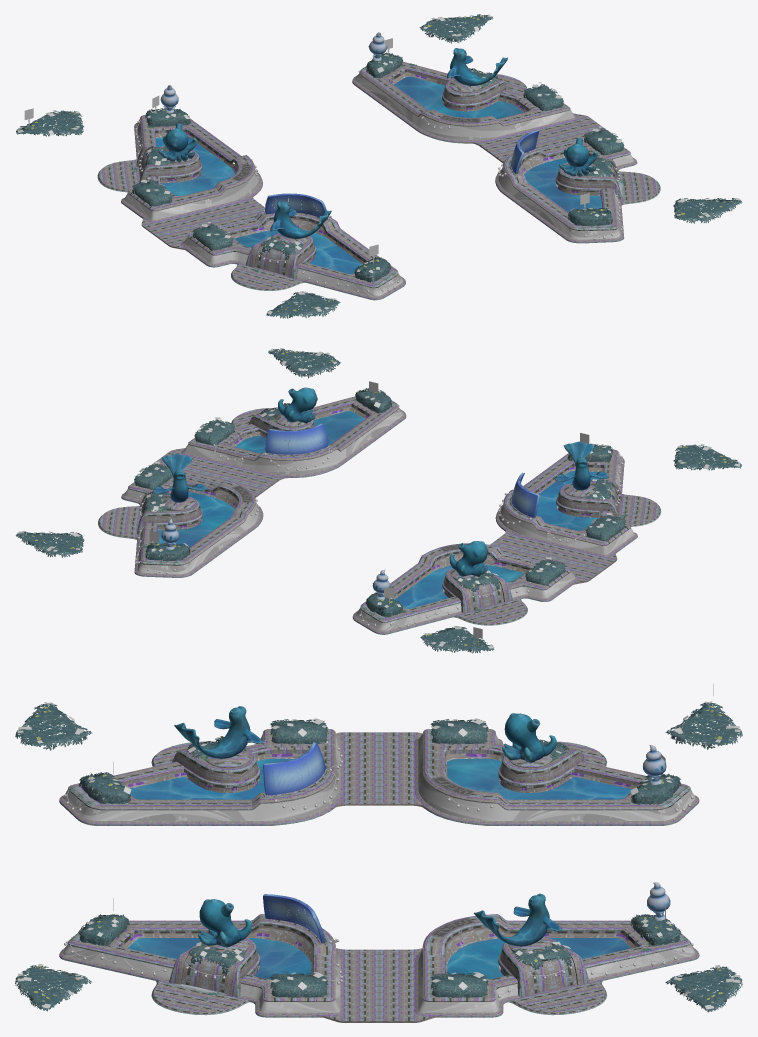
File: pref_Area_Winter_Boss_Small_beta_01_lv3.fbx
3 views of the same model, one above another, from view 1: azimuth 30°, elevation 25°; view 2: azimuth 150°, elevation 25°; view 3: azimuth 270°, elevation 25° (orthographic). The views are drawn at different scales.
Parts seen in each view (by area): view 1: sm_beach_winter_techobstacle03_a_lv3 (×2), sm_beach_winter_techobstacle03_f_lv3 (×2), pref_sm_beach_ice_lv3, pref_sm_beach_winter_techvegetation01_lv3 (×4), pref_sm_beach_winter_techvegetation05_lv3 (×2), pref_sm_beach_winter_techvegetation05_mirror_lv3 (×2), sm_beach_winter_techobstacle03_b_lv3 (×2), sm_beach_winter_techobstacle03_d_lv3 (×2), pref_sm_beach_winter_techvegetation02_lv3 (×2), pref_sm_beach_winter_techvegetation02_mirror_lv3 (×2), pref_sm_beach_winter_dewgong_lv3, pref_sm_beach_winter_dewgong_lv3 (1) (+2 smaller); view 2: sm_beach_winter_techobstacle03_a_lv3 (×2), sm_beach_winter_techobstacle03_f_lv3 (×2), pref_sm_beach_ice_lv3, pref_sm_beach_winter_techvegetation01_lv3 (×4), pref_sm_beach_winter_techvegetation05_mirror_lv3 (×2), pref_sm_beach_winter_techvegetation05_lv3 (×2), sm_beach_winter_techobstacle03_d_lv3 (×2), sm_beach_winter_techobstacle03_b_lv3 (×2), pref_sm_beach_winter_techvegetation02_lv3 (×2), pref_sm_beach_winter_dewgong_lv3, pref_sm_beach_winter_dewgong_lv3 (1), pref_sm_beach_winter_octillery_lv3 (+3 smaller); view 3: sm_beach_winter_techobstacle03_a_lv3 (×2), sm_beach_winter_techobstacle03_f_lv3 (×2), pref_sm_beach_ice_lv3, pref_sm_beach_winter_techvegetation01_lv3 (×4), sm_beach_winter_techobstacle03_b_lv3 (×2), pref_sm_beach_winter_techvegetation05_mirror_lv3 (×2), pref_sm_beach_winter_techvegetation05_lv3 (×2), sm_beach_winter_techobstacle03_d_lv3 (×2), pref_sm_beach_winter_techvegetation02_mirror_lv3 (×2), pref_sm_beach_winter_techvegetation02_lv3 (×2), pref_sm_beach_winter_dewgong_lv3 (1), pref_sm_beach_winter_dewgong_lv3 (+7 smaller).
Boxes of the visible parts, bbox=[...] form: sm_beach_winter_techobstacle03_a_lv3 (×2): bbox=[97, 61, 660, 300]; sm_beach_winter_techobstacle03_f_lv3 (×2): bbox=[124, 73, 633, 296]; pref_sm_beach_ice_lv3: bbox=[155, 76, 602, 274]; pref_sm_beach_winter_techvegetation01_lv3 (×4): bbox=[132, 84, 624, 250]; pref_sm_beach_winter_techvegetation05_lv3 (×2): bbox=[266, 14, 493, 318]; pref_sm_beach_winter_techvegetation05_mirror_lv3 (×2): bbox=[16, 110, 741, 223]; sm_beach_winter_techobstacle03_b_lv3 (×2): bbox=[155, 72, 600, 264]; sm_beach_winter_techobstacle03_d_lv3 (×2): bbox=[265, 130, 539, 220]; pref_sm_beach_winter_techvegetation02_lv3 (×2): bbox=[145, 108, 612, 226]; pref_sm_beach_winter_techvegetation02_mirror_lv3 (×2): bbox=[354, 52, 402, 282]; pref_sm_beach_winter_dewgong_lv3: bbox=[270, 201, 331, 238]; pref_sm_beach_winter_dewgong_lv3 (1): bbox=[446, 48, 507, 85]; sm_beach_winter_techobstacle03_a_lv3 (×2): bbox=[98, 396, 661, 634]; sm_beach_winter_techobstacle03_f_lv3 (×2): bbox=[124, 407, 634, 630]; pref_sm_beach_ice_lv3: bbox=[156, 411, 601, 608]; pref_sm_beach_winter_techvegetation01_lv3 (×4): bbox=[134, 419, 626, 585]; pref_sm_beach_winter_techvegetation05_mirror_lv3 (×2): bbox=[268, 348, 494, 653]; pref_sm_beach_winter_techvegetation05_lv3 (×2): bbox=[16, 444, 741, 557]; sm_beach_winter_techobstacle03_d_lv3 (×2): bbox=[265, 423, 539, 517]; sm_beach_winter_techobstacle03_b_lv3 (×2): bbox=[157, 407, 603, 599]; pref_sm_beach_winter_techvegetation02_lv3 (×2): bbox=[355, 388, 403, 617]; pref_sm_beach_winter_dewgong_lv3: bbox=[555, 441, 608, 490]; pref_sm_beach_winter_dewgong_lv3 (1): bbox=[153, 453, 206, 502]; pref_sm_beach_winter_octillery_lv3: bbox=[449, 541, 488, 576]; sm_beach_winter_techobstacle03_a_lv3 (×2): bbox=[59, 729, 699, 1022]; sm_beach_winter_techobstacle03_f_lv3 (×2): bbox=[63, 733, 695, 1012]; pref_sm_beach_ice_lv3: bbox=[127, 758, 631, 979]; pref_sm_beach_winter_techvegetation01_lv3 (×4): bbox=[270, 719, 488, 997]; sm_beach_winter_techobstacle03_b_lv3 (×2): bbox=[122, 753, 636, 975]; pref_sm_beach_winter_techvegetation05_mirror_lv3 (×2): bbox=[15, 702, 742, 1011]; pref_sm_beach_winter_techvegetation05_lv3 (×2): bbox=[15, 703, 742, 1012]; sm_beach_winter_techobstacle03_d_lv3 (×2): bbox=[263, 742, 325, 943]; pref_sm_beach_winter_techvegetation02_mirror_lv3 (×2): bbox=[79, 772, 681, 945]; pref_sm_beach_winter_techvegetation02_lv3 (×2): bbox=[78, 773, 681, 945]; pref_sm_beach_winter_dewgong_lv3 (1): bbox=[473, 893, 563, 946]; pref_sm_beach_winter_dewgong_lv3: bbox=[174, 706, 263, 758].
Size of the model in its own units: 51.37 by 7.3 by 51.07.
